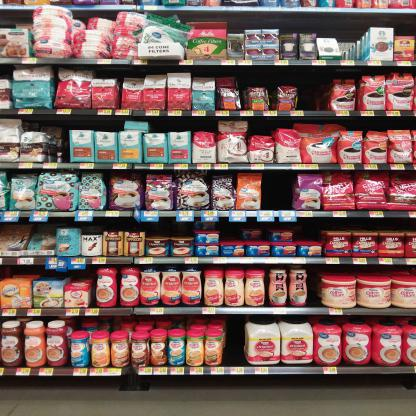Void: (300, 68, 326, 112), (262, 173, 291, 209), (226, 313, 244, 366), (288, 216, 324, 242), (246, 68, 290, 84), (141, 221, 186, 234), (218, 221, 238, 239)
